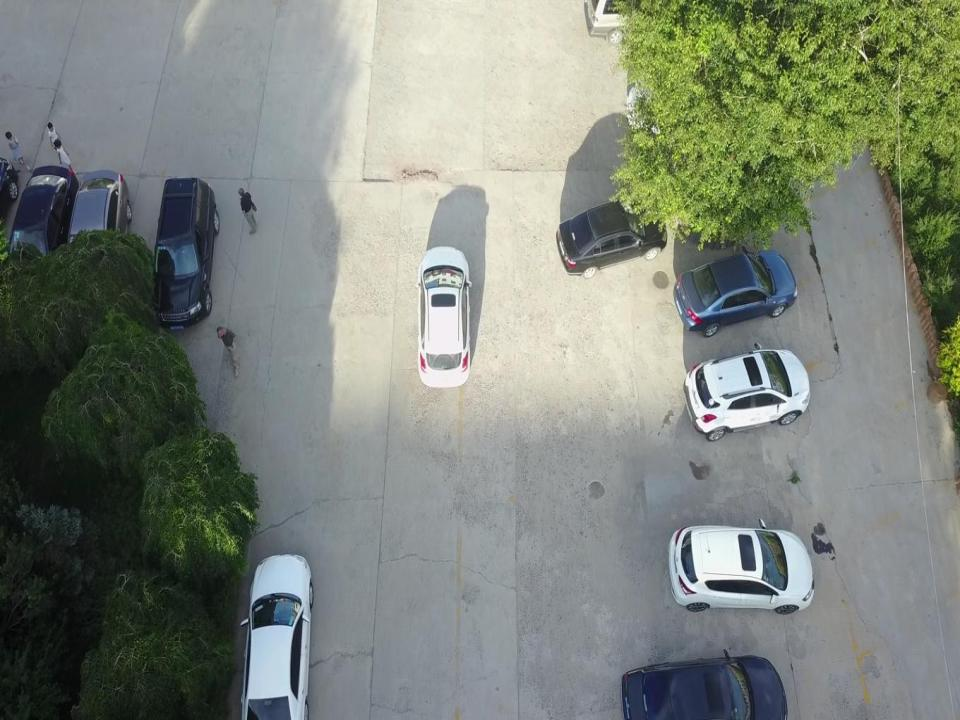car: (668, 518, 814, 614), (683, 340, 810, 440), (238, 553, 313, 720), (622, 648, 786, 720), (674, 246, 798, 338), (2, 166, 78, 308), (150, 177, 219, 329), (62, 170, 131, 310), (414, 246, 472, 388), (555, 201, 666, 275)
